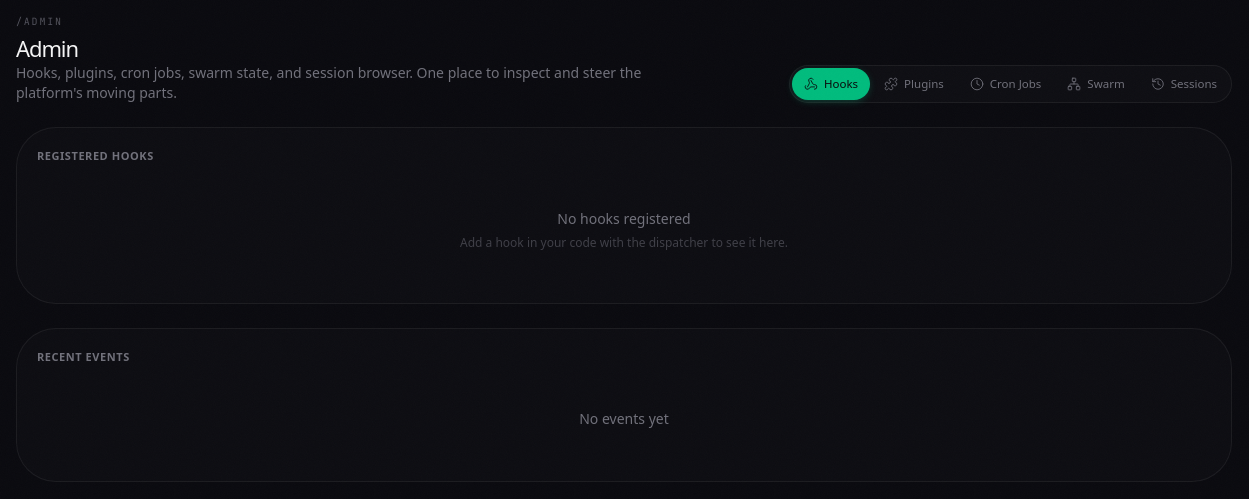
Test: Admin Page › switches to Plugins tab on click
Click the button "Plugins" at x=914, y=84, box x1=872 y1=68 x2=956 y2=100
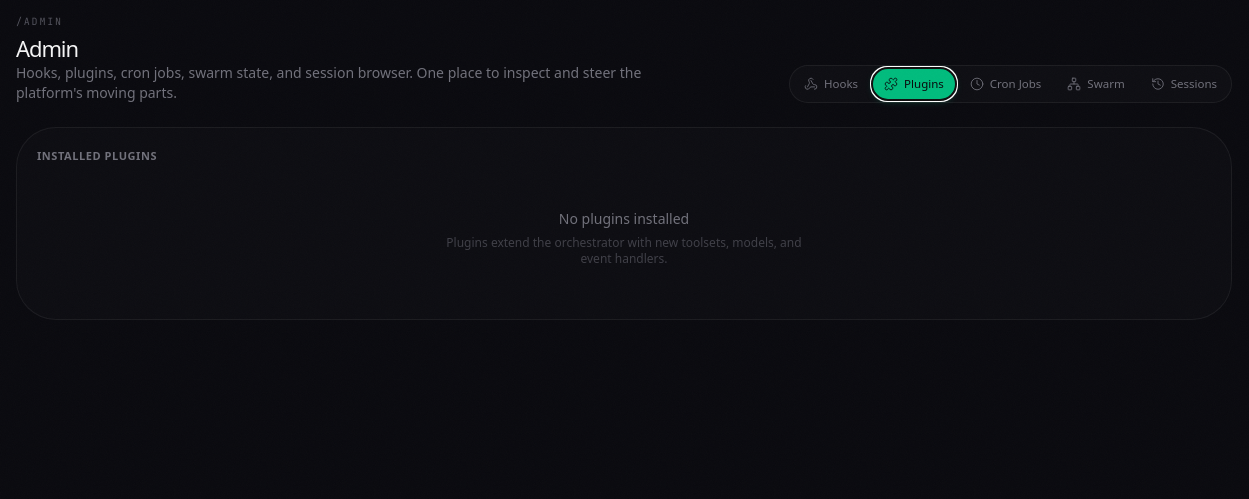
Check: the text "Installed Plugins" is shown, box x1=37 y1=148 x2=157 y2=163
